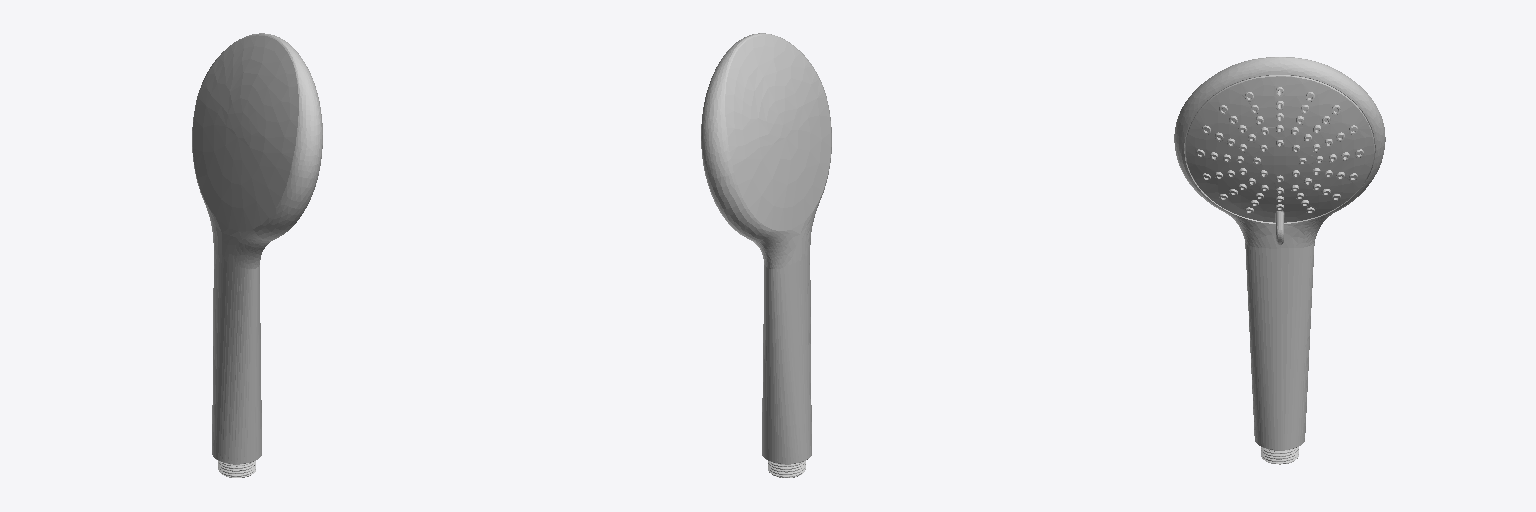
3 renders of one model, left to right at view 1: azimuth 30°, elevation 25°; view 2: azimuth 150°, elevation 25°; view 3: azimuth 270°, elevation 25°, orthographic.
Visible parts, largest first — view 1: MP01S-B; view 2: MP01S-B; view 3: MP01S-B.
Part boxes in pixels (bbox=[...]): MP01S-B: bbox=[192, 33, 322, 477]; MP01S-B: bbox=[701, 33, 831, 477]; MP01S-B: bbox=[1174, 57, 1385, 464].
Size of the model in its own units: 49.23 by 244 by 111.